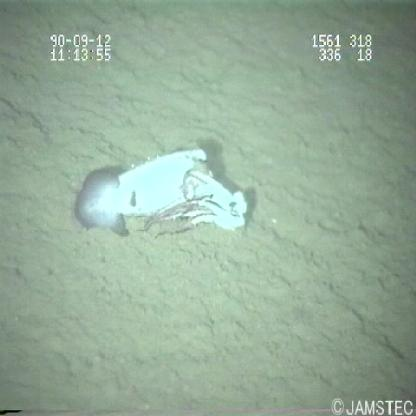Bio: (64, 142, 251, 244)
